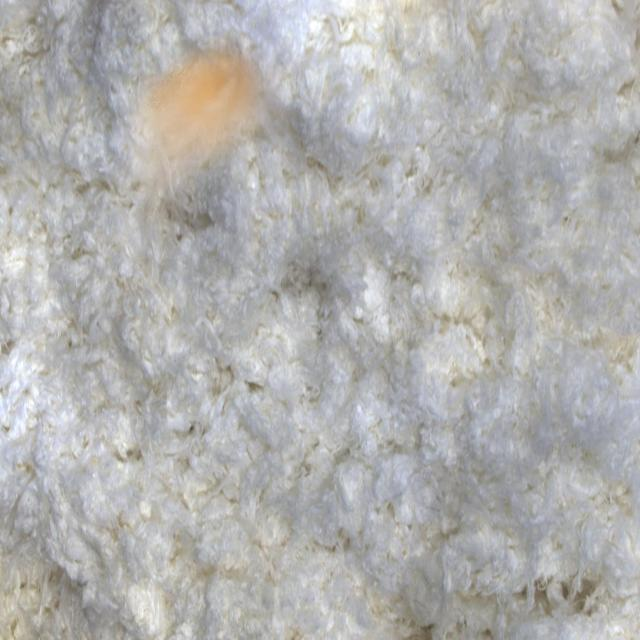dust: (109, 33, 297, 259)
